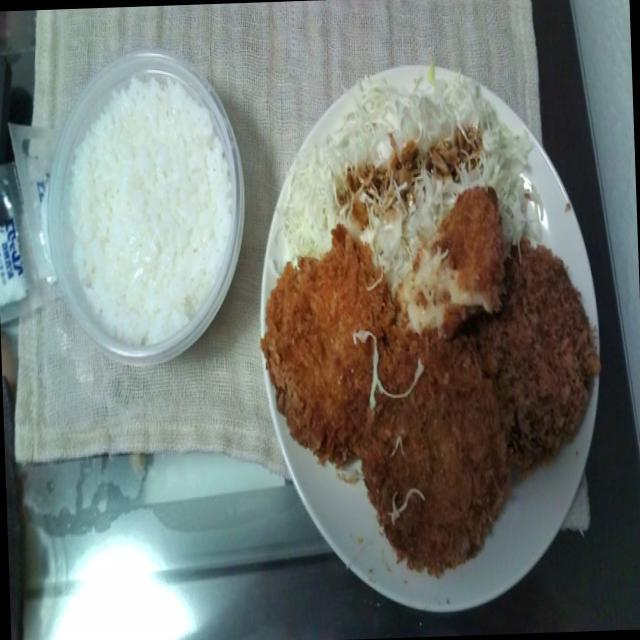Rice: (59, 69, 248, 338)
